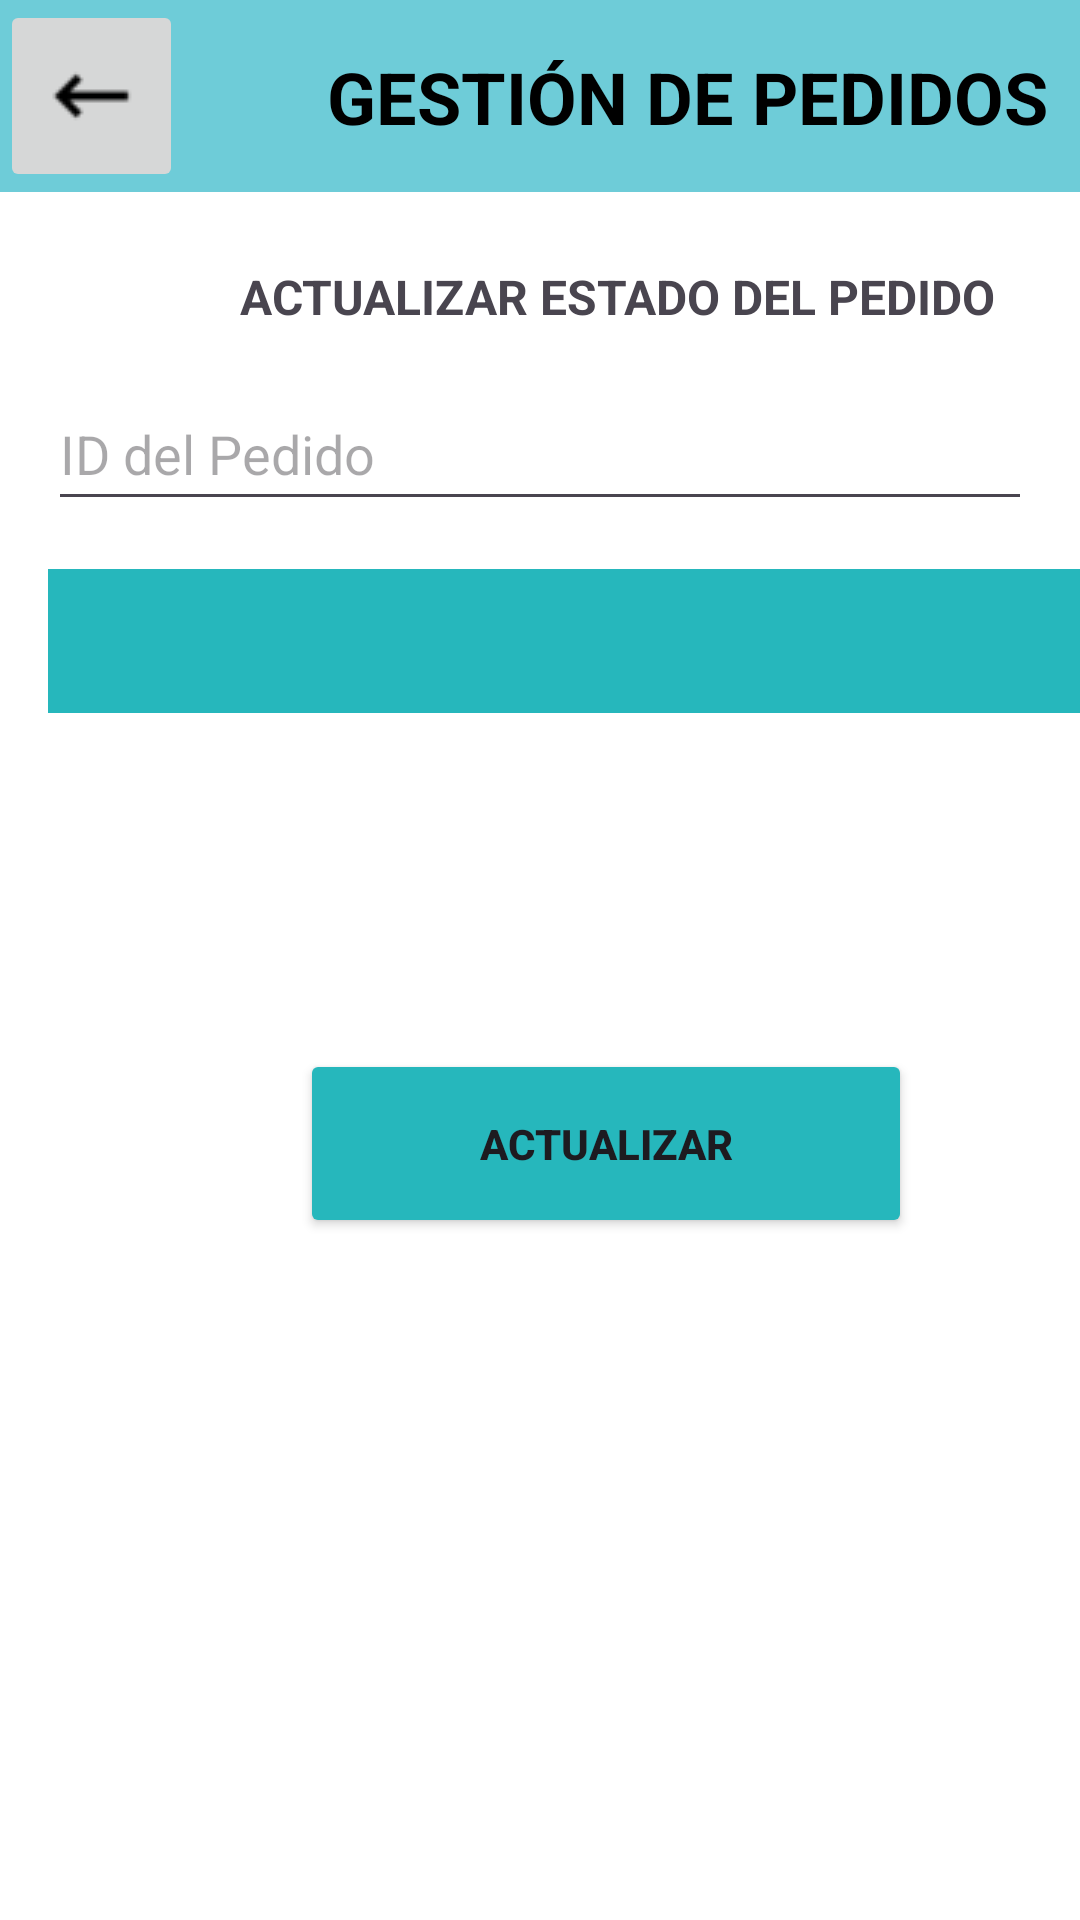

Named icons in this screenshot (1080px x 1920px) and their centers, (x=x, y=y):
flecha regreso: (x=91, y=96)
